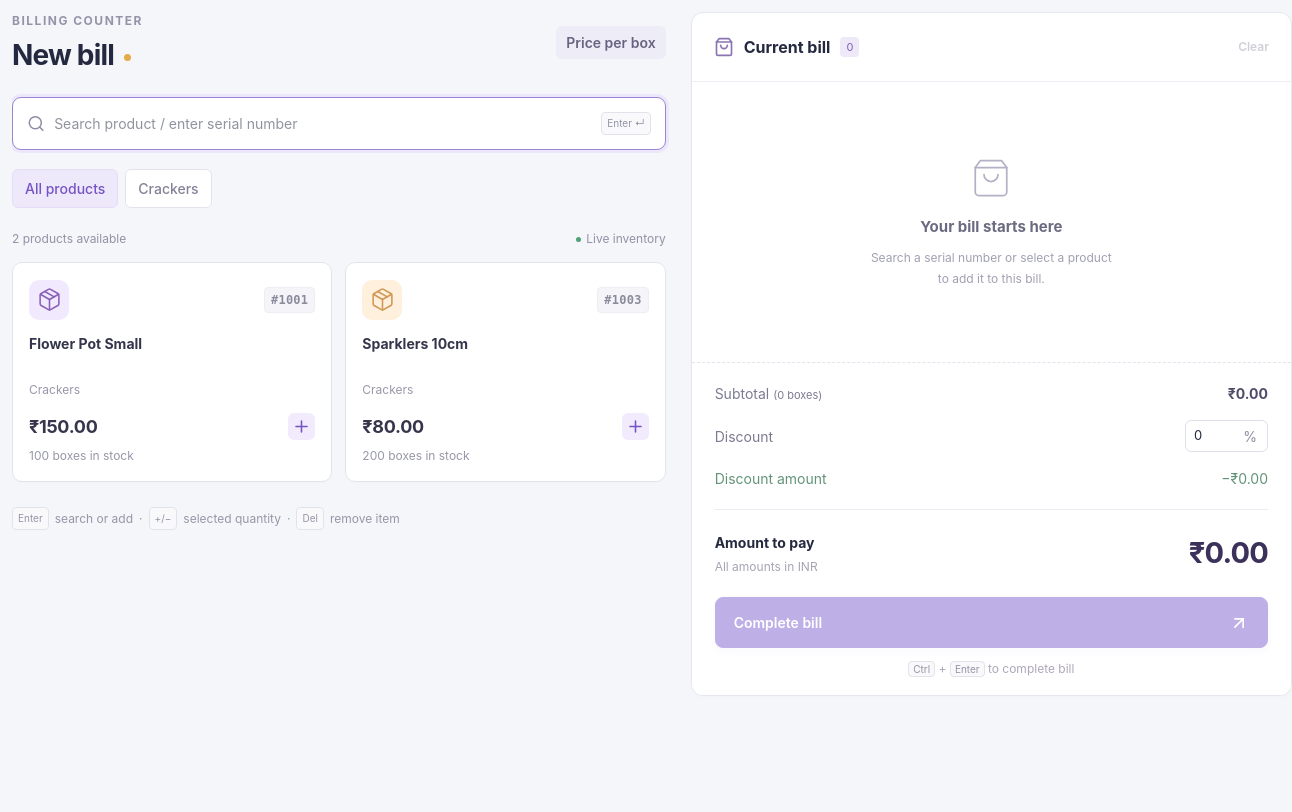
POS interface › retries an uncertain sale with the same key and payload
The width and height of the screenshot is (1292, 812).
Click the button "#1001 Flower Pot Small Crackers ₹150.00 100 boxes in stock": coordinates (49, 300) 12,262 -> 332,482
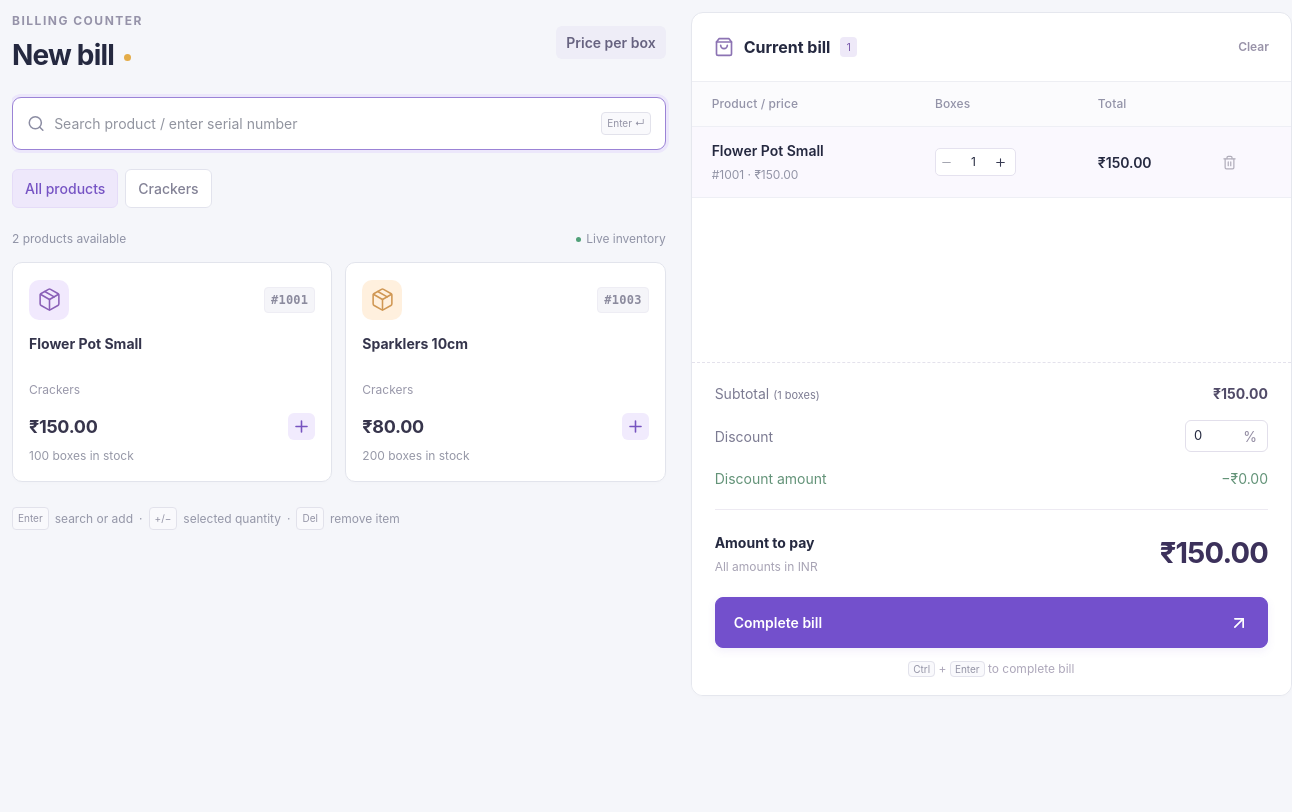
Click the button "Complete bill": coordinates (778, 622) 715,597 -> 1268,648
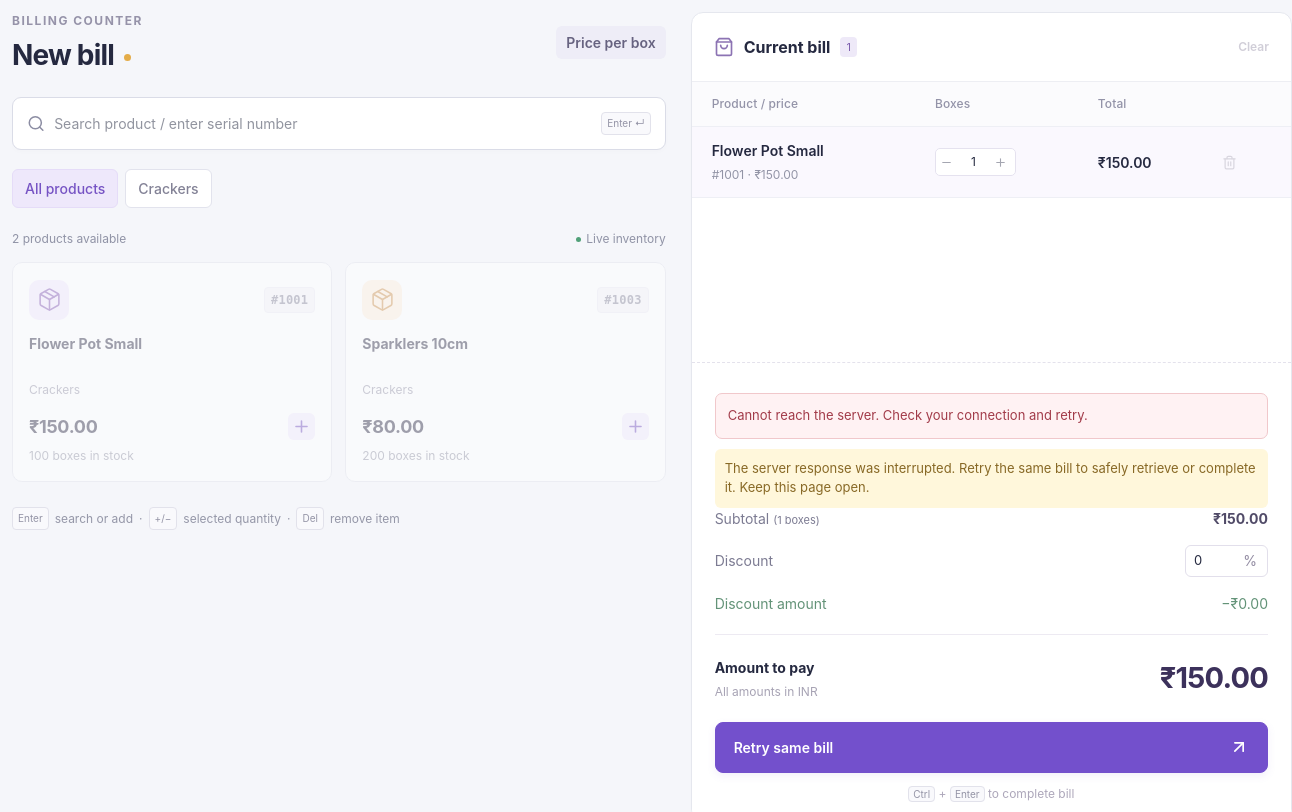
expect the number field labelled "Discount" is disabled: met, box 1186,546 -> 1235,575
Click the button "Retry same bill": coordinates (783, 747) 715,722 -> 1268,772
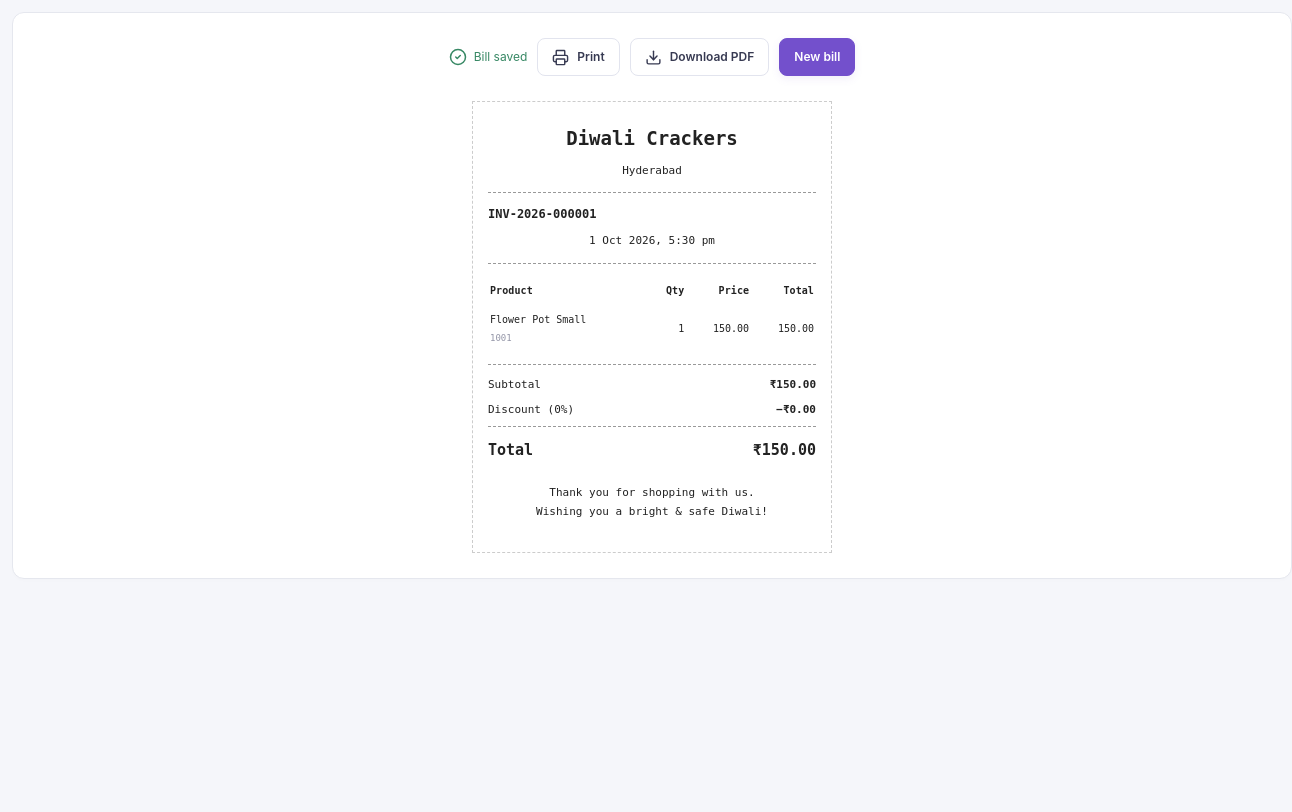
expect the text "INV-2026-000001" is shown: met, box 488,207 -> 596,221
